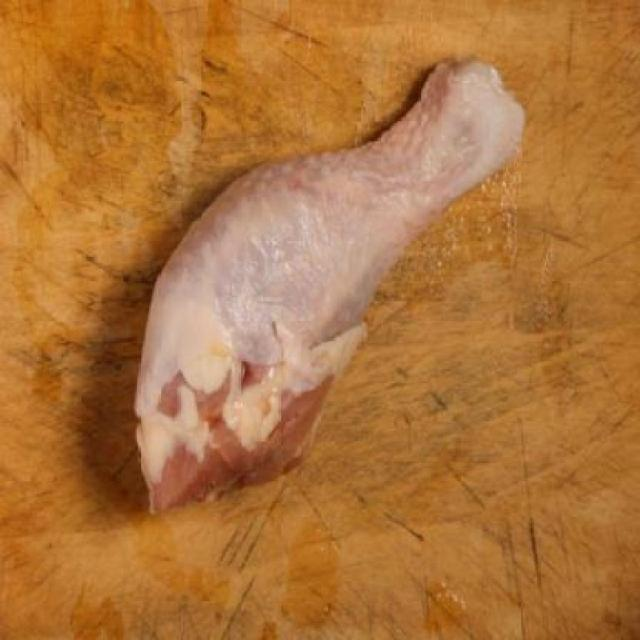chicken: (116, 48, 530, 511)
